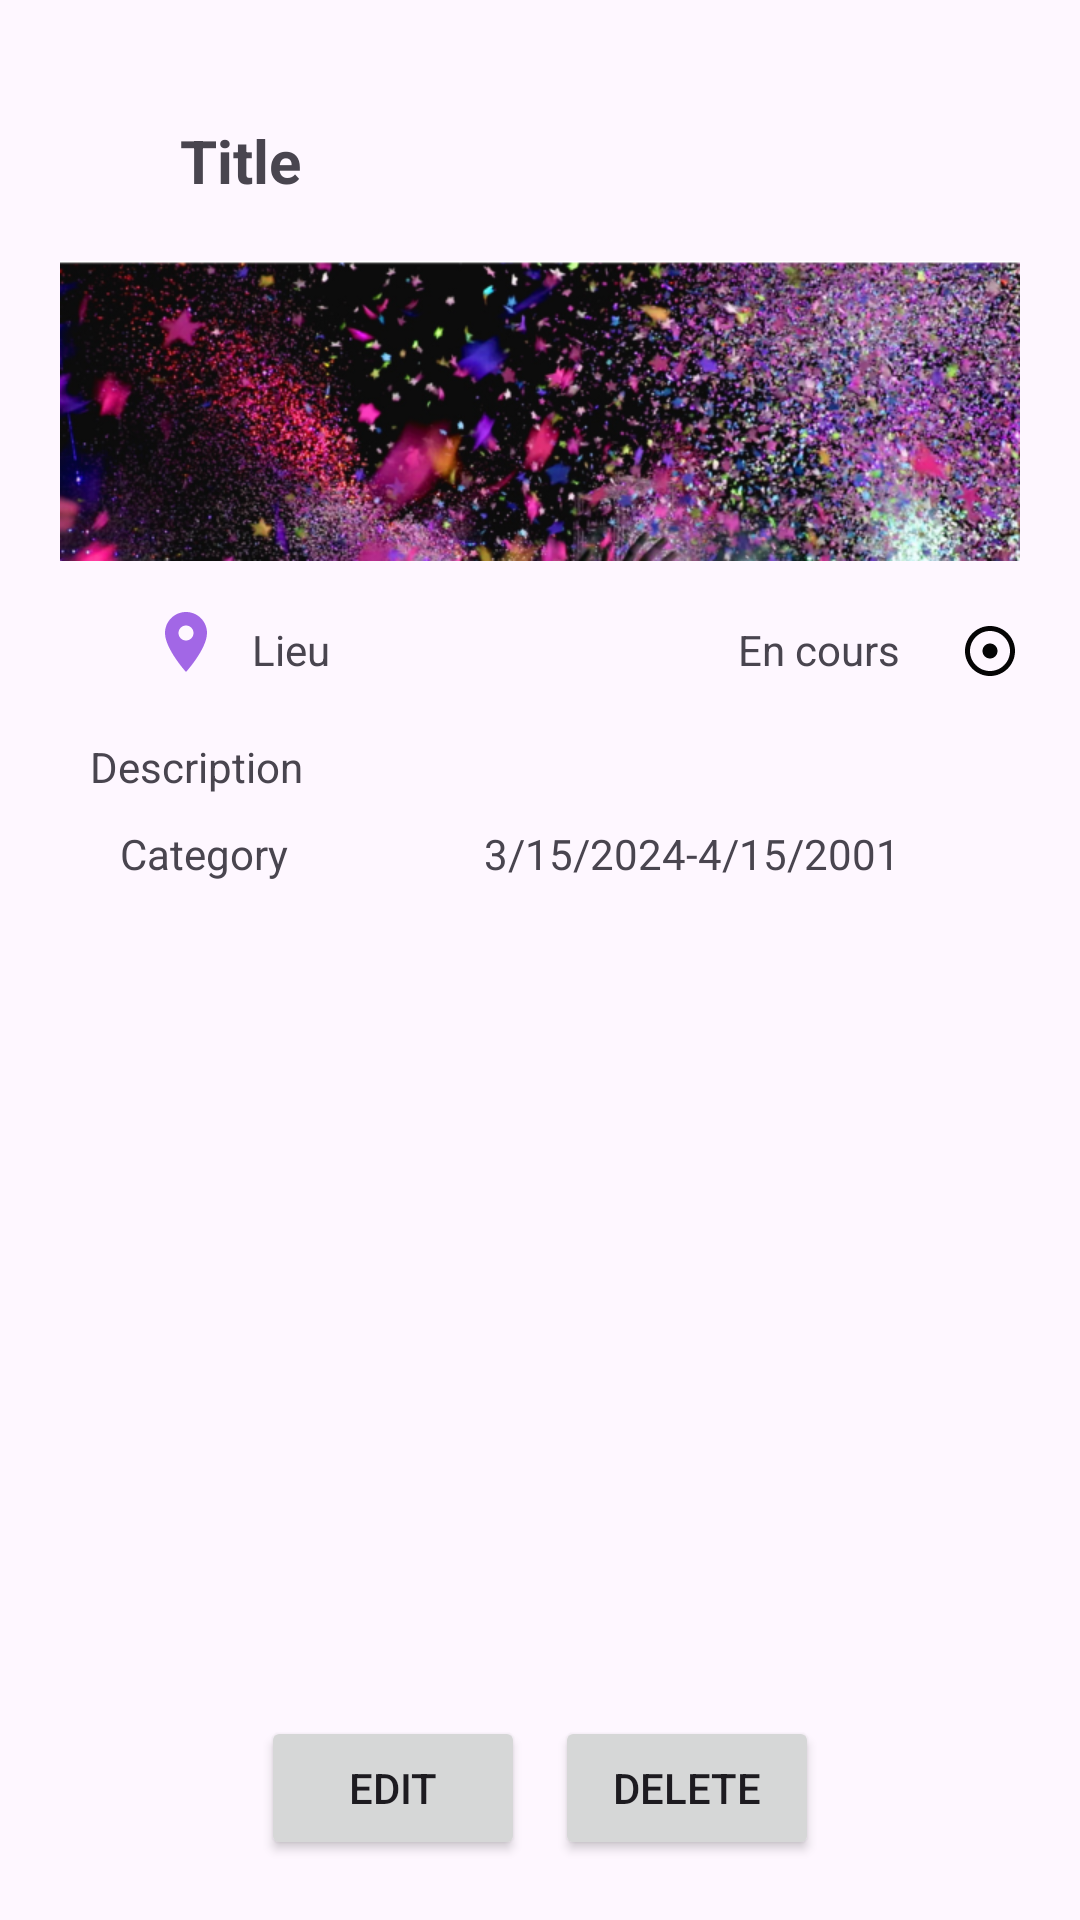

Icon click points for this 1080 x 1920 phone screenshot, format (x=x, y=y):
adjust: (x=990, y=651)
